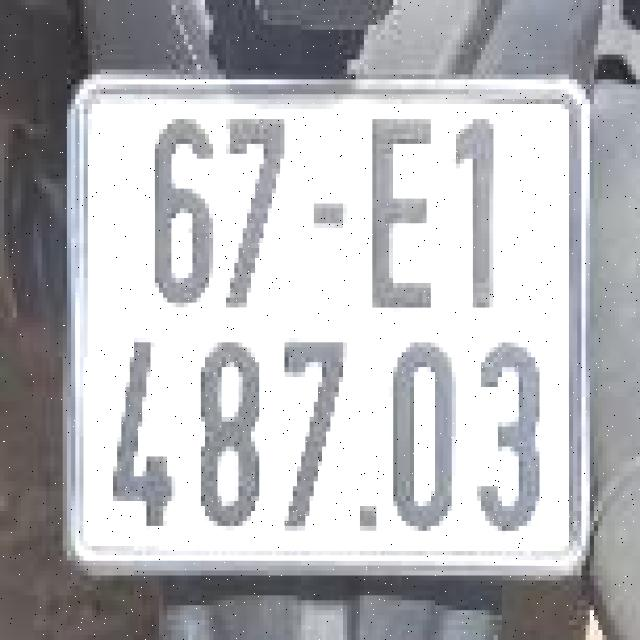0: (376, 327, 468, 541)
1: (454, 107, 516, 320)
3: (475, 335, 558, 548)
4: (92, 315, 180, 548)
6: (142, 94, 226, 313)
7: (215, 97, 295, 315), (272, 322, 347, 536)
8: (190, 327, 270, 536)
E: (360, 109, 448, 328)
